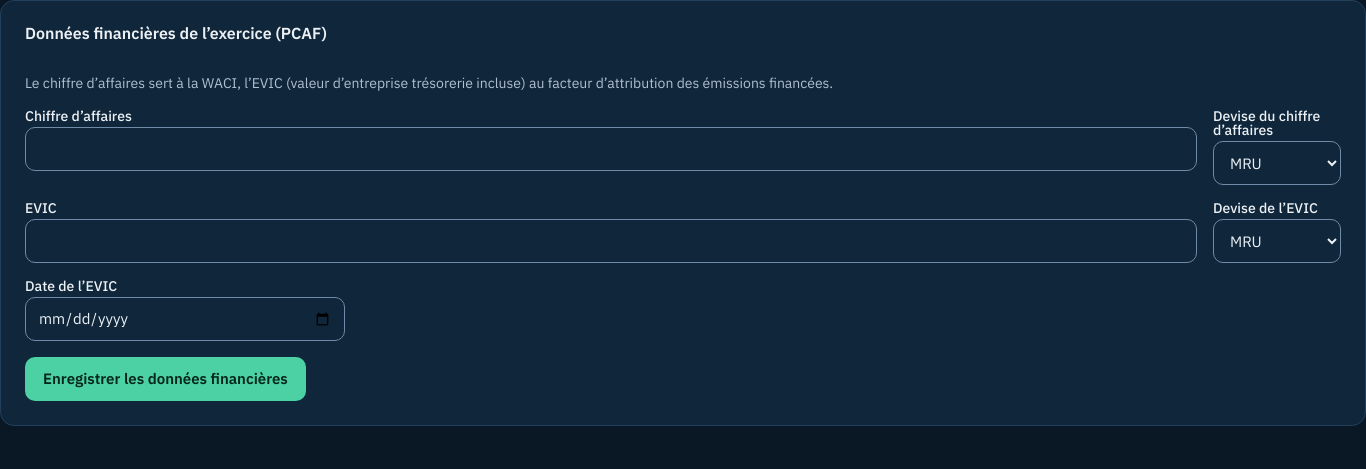
Test: ReportFinancialsCard › refuse plus de deux décimales et une date sans EVIC, sans appeler le serveur
The image size is (1366, 469).
Step 1. Type "10.005" into the number field labelled "Chiffre d’affaires" → (611, 149), box [25, 127, 1197, 171]
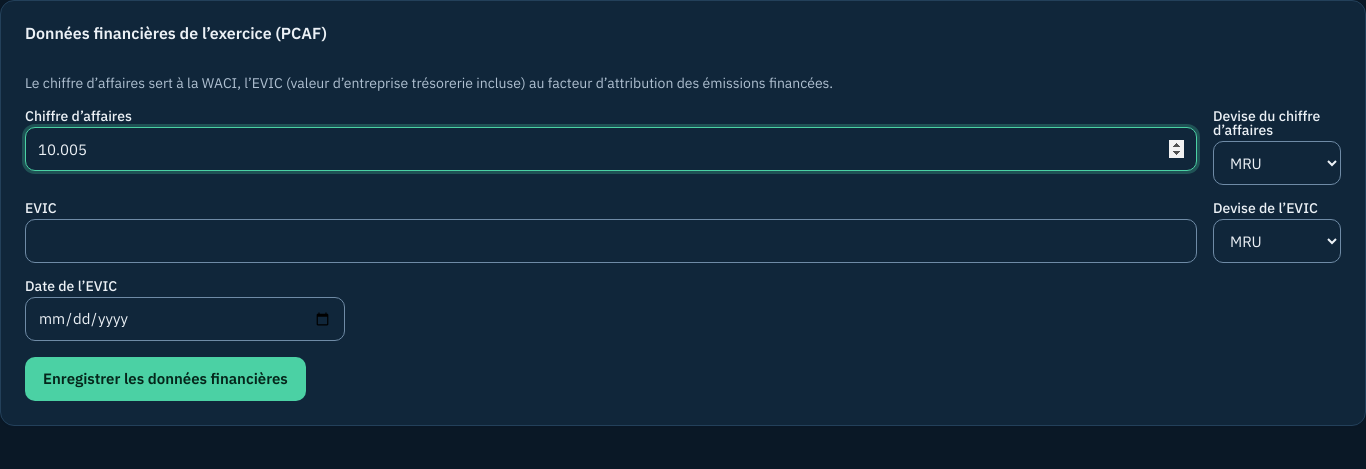
Step 2. Type "2025-12-31" into the date field labelled "Date de l’EVIC" → (185, 319), box [25, 297, 345, 341]
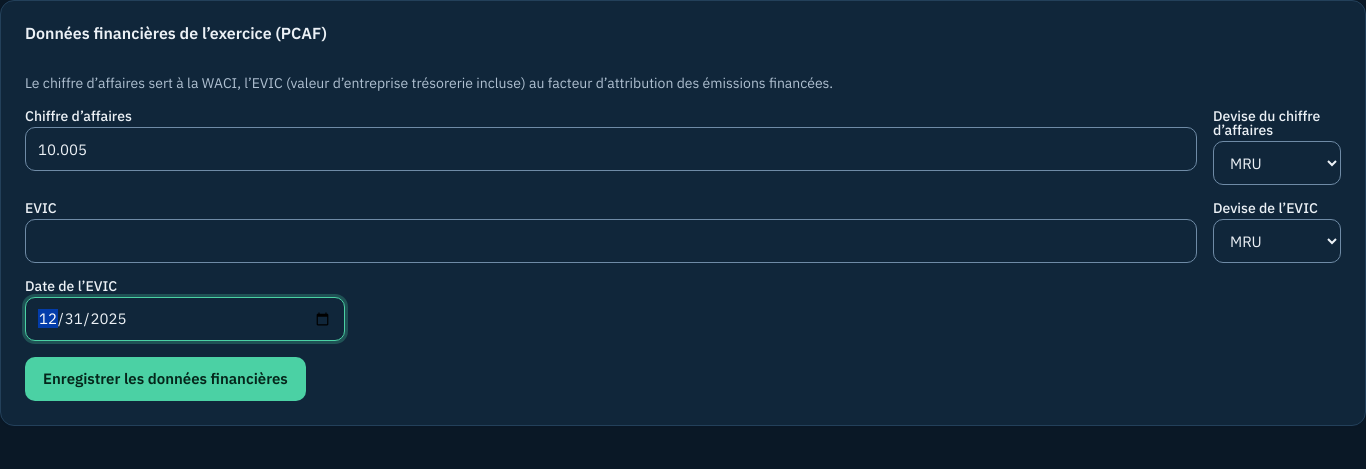
Step 3. Click the button "Enregistrer les données financières" → click(165, 379), box [25, 357, 306, 401]
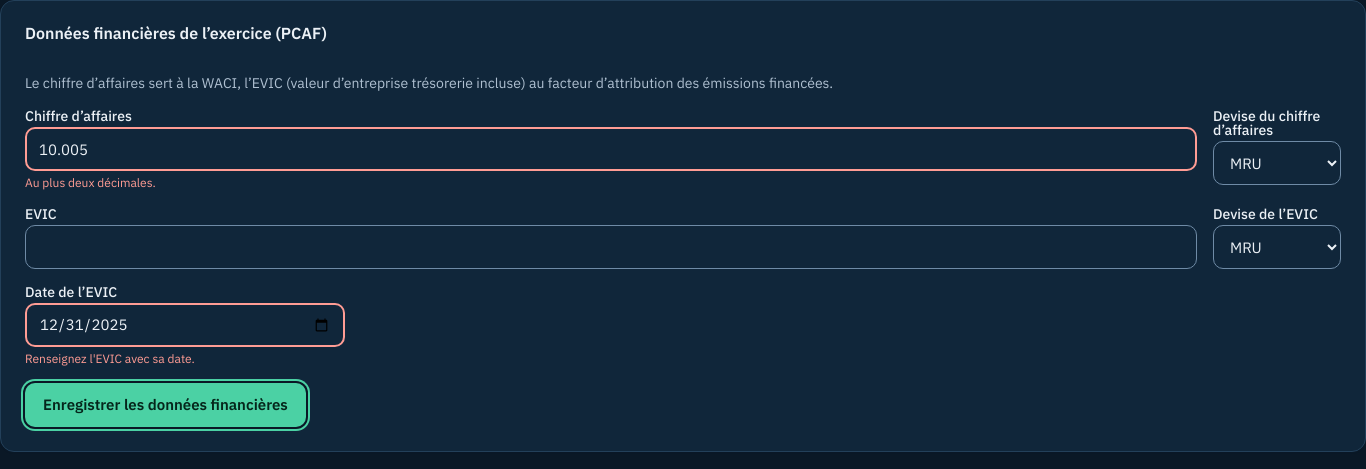
Check: the text "Au plus deux décimales." is shown, box [25, 175, 156, 190]
Check: the text "Renseignez l'EVIC avec sa date." is shown, box [25, 351, 195, 366]
